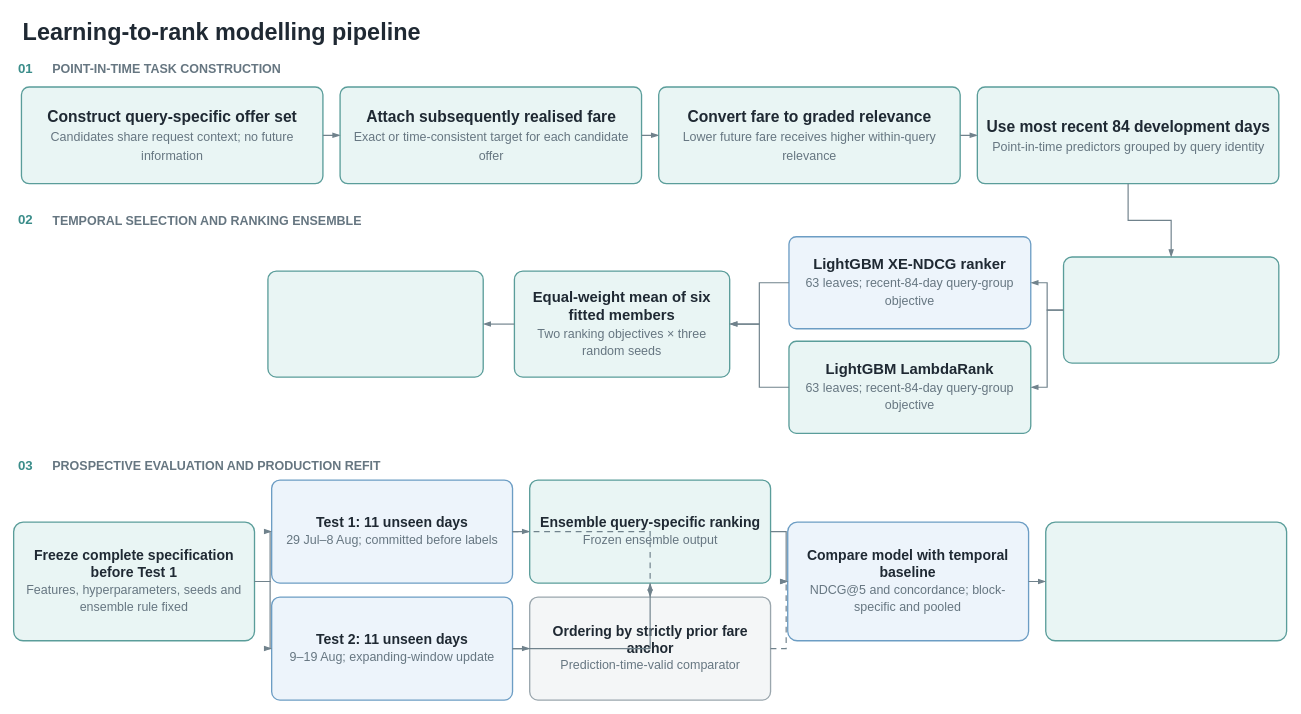
Image size: 1301x714. Some labels were removed from this diagram. Here are the shapes that lost their labels. From the top down, the centre of each, then its label:
At pixel 375 323: "Generate score for each offer Sort scores within each query for final order".
At pixel 1171 309: "128-day rolling-origin validation Screen F02–F04; validate F05–F06 by NDCG@5".
At pixel 1166 581: "Final production refit Same recipe refitted through 19 Aug; no reselection".
